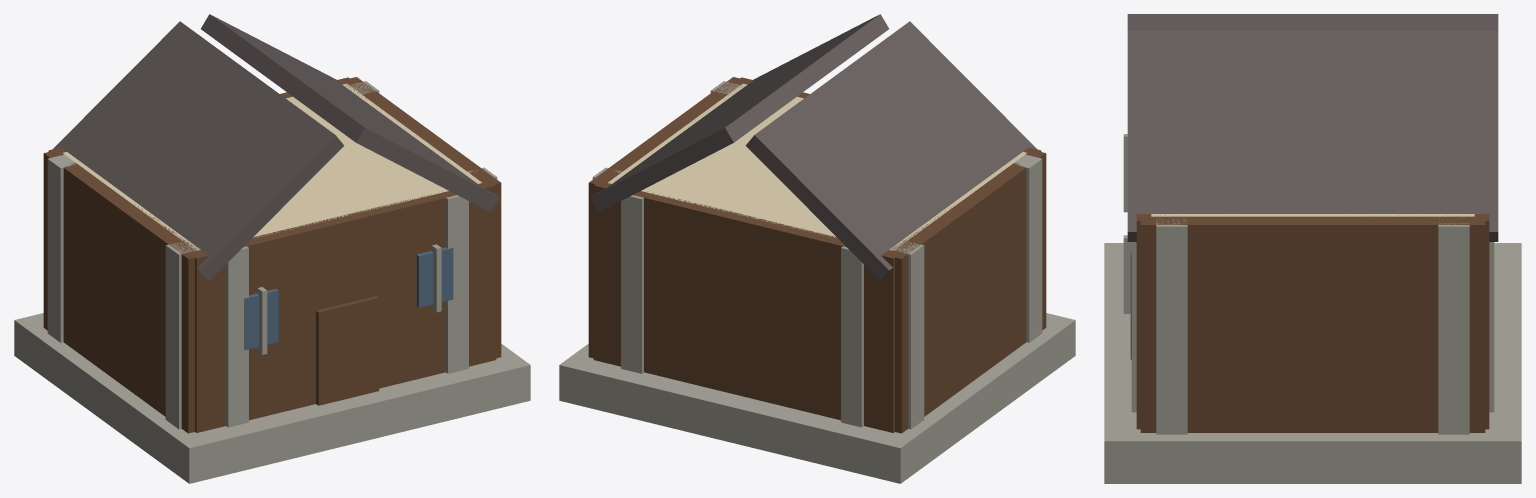
The model's file is procedural_master_workshop@3.glb.
3 renders of one model, left to right at view 1: azimuth 30°, elevation 25°; view 2: azimuth 150°, elevation 25°; view 3: azimuth 270°, elevation 25°, orthographic. The views are drawn at different scales.
Visible parts, largest first — view 1: part_11, part_19, part_0, part_2, part_20, part_1, part_14, part_12, part_13, part_3, part_4, part_5 (+4 smaller); view 2: part_8, part_19, part_0, part_2, part_20, part_1, part_10, part_9, part_3, part_4, part_5; view 3: part_20, part_5, part_0, part_7, part_6, part_19, part_11, part_8, part_10, part_13, part_1, part_18.
Part boxes in pixels (x1,y1,x2,y2): part_11: (189,181,496,432); part_19: (53,21,344,280); part_0: (14,313,530,483); part_2: (43,151,203,433); part_20: (201,14,499,212); part_1: (63,83,481,250); part_14: (316,296,379,405); part_12: (226,246,248,427); part_13: (446,195,468,373); part_3: (47,154,76,342); part_4: (165,240,199,429); part_5: (340,77,501,358); part_8: (593,181,900,432); part_19: (745,21,1036,280); part_0: (559,313,1075,483); part_2: (886,151,1046,433); part_20: (590,14,888,212); part_1: (608,83,1026,250); part_10: (621,195,643,373); part_9: (841,246,863,427); part_3: (890,240,924,429); part_4: (1013,154,1042,342); part_5: (588,77,749,358); part_20: (1127,31,1498,241); part_5: (1140,215,1485,432); part_0: (1104,243,1521,483); part_7: (1156,218,1187,434); part_6: (1438,216,1469,434); part_19: (1127,14,1498,30); part_11: (1136,214,1154,429); part_8: (1471,214,1489,429); part_10: (1489,242,1494,412); part_13: (1131,242,1136,412); part_1: (1151,214,1474,216); part_18: (1123,235,1131,313).
Bounding box in the file's own units: 9 × 7.65 × 8.
